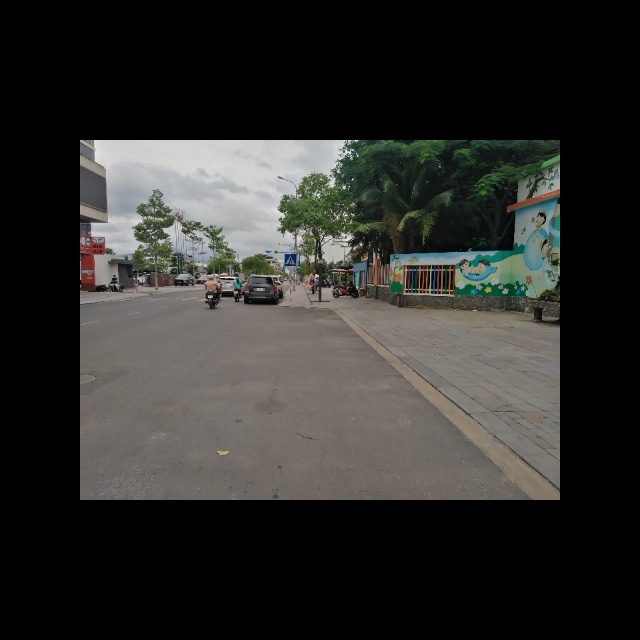Đường dành cho người đi bộ: (284, 253, 296, 267)
